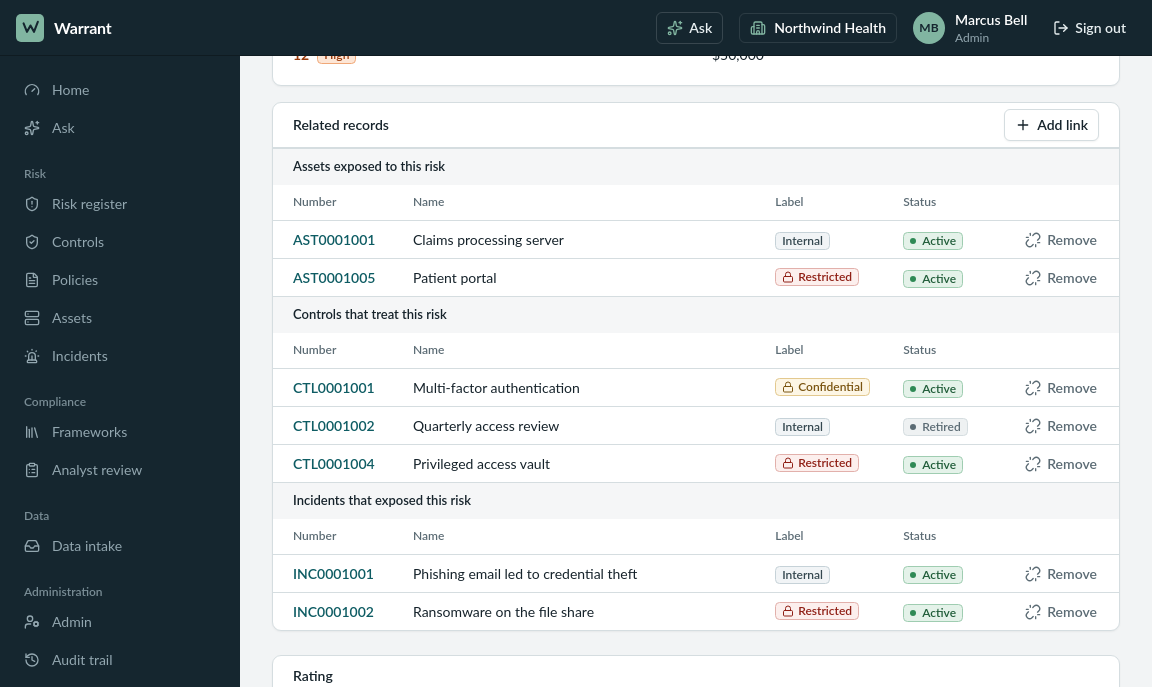
Test case: 409 ai_link_review_only (D207) › the page’s own wording is used even when the API words it differently
(page scrolled)
Expected: the row "CTL0001001" is shown, [273,368,1119,406]
Step 1. Click the button "Remove" in the row of "CTL0001001" → (1061, 388), box [1015,374,1107,402]
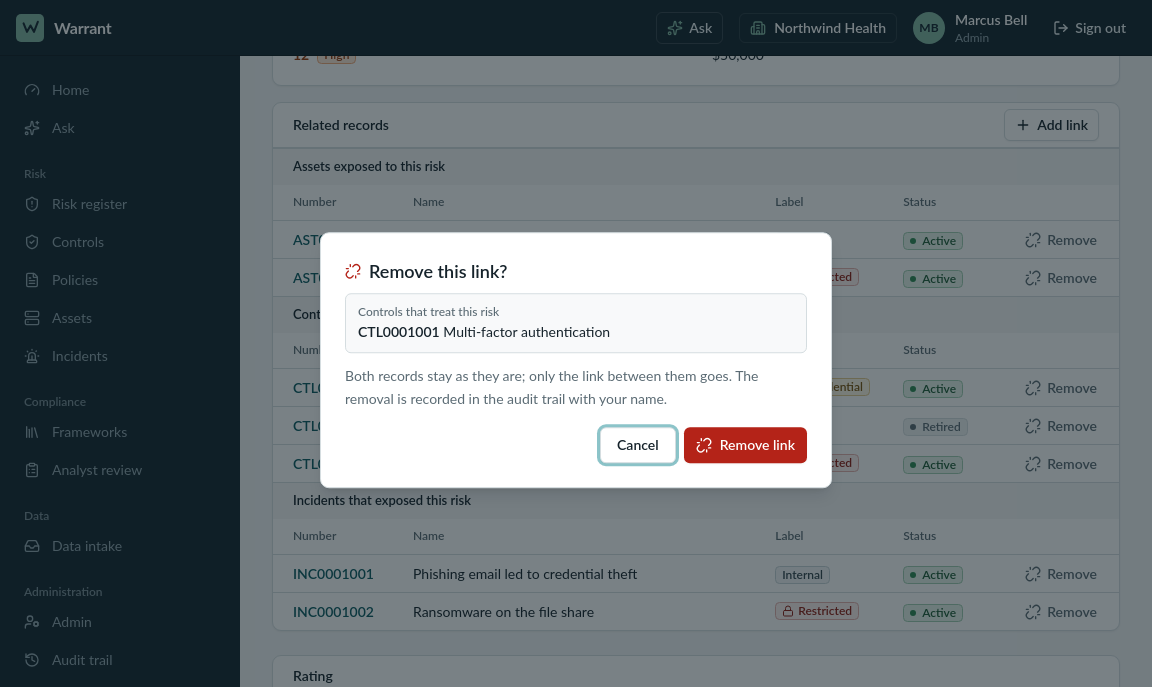
Step 2. Click the button "Remove link" → (745, 445), box [684,427,807,463]
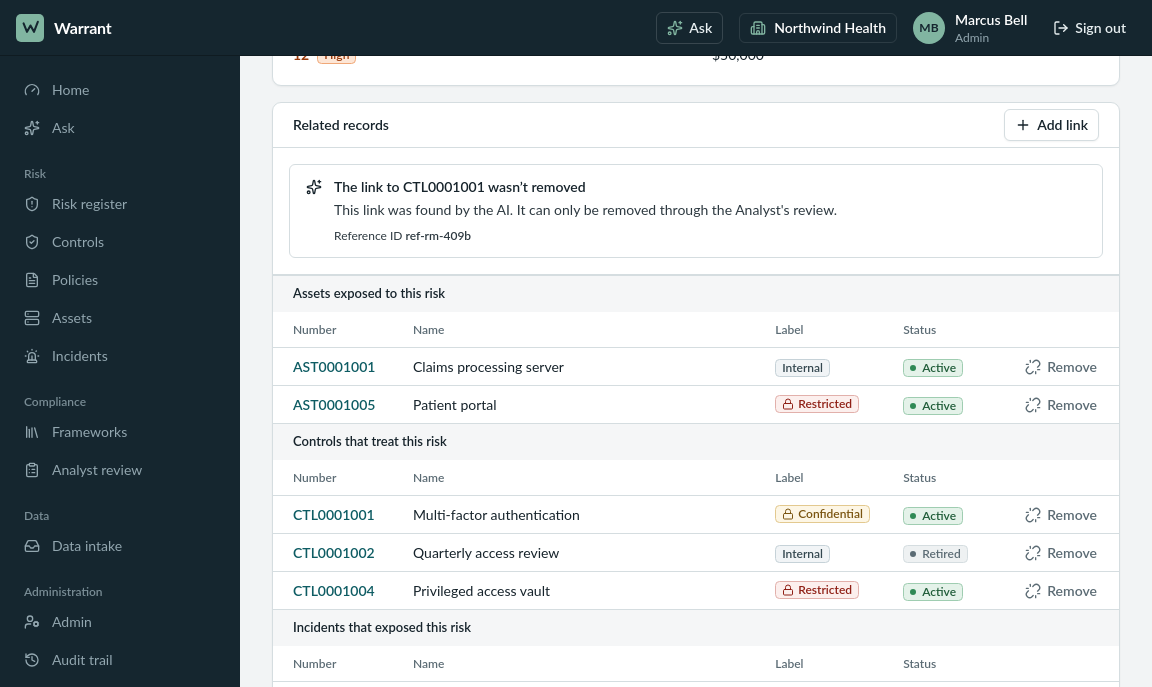
Now the text "this link was found by the ai. it can only be removed through the analyst.s review." is shown, box [334,201,837,218]
